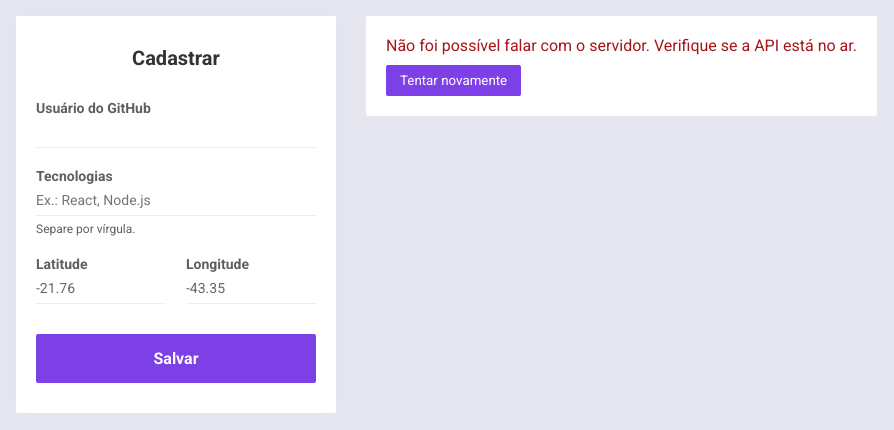
it: App › mostra erro com Tentar novamente e depois a lista
Expected: the message shows "Não foi possível falar com o servidor", left=386, top=36, right=857, bottom=55
Click the button "Tentar novamente" at point(454, 80), box left=386, top=65, right=521, bottom=96
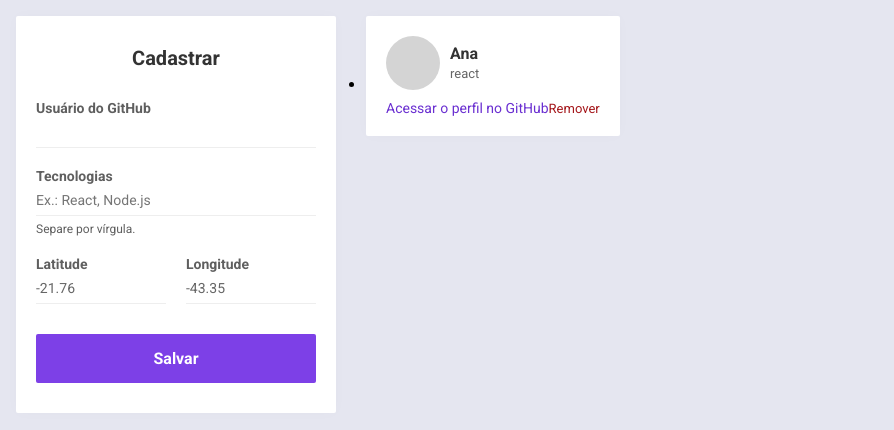
Now the heading "Ana" is shown, box left=450, top=44, right=479, bottom=63
